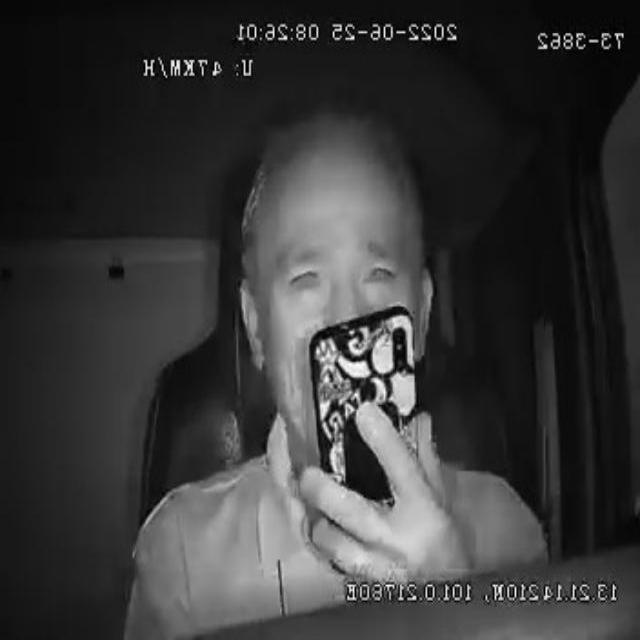phone: (311, 306, 424, 544)
